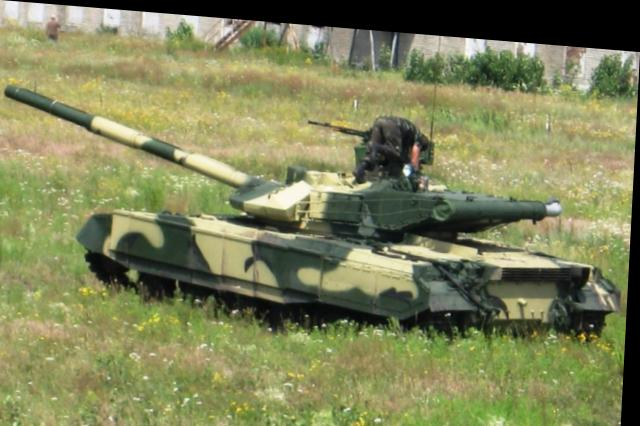other: (357, 103, 430, 172), (45, 14, 61, 41)
tank: (81, 127, 617, 329)
